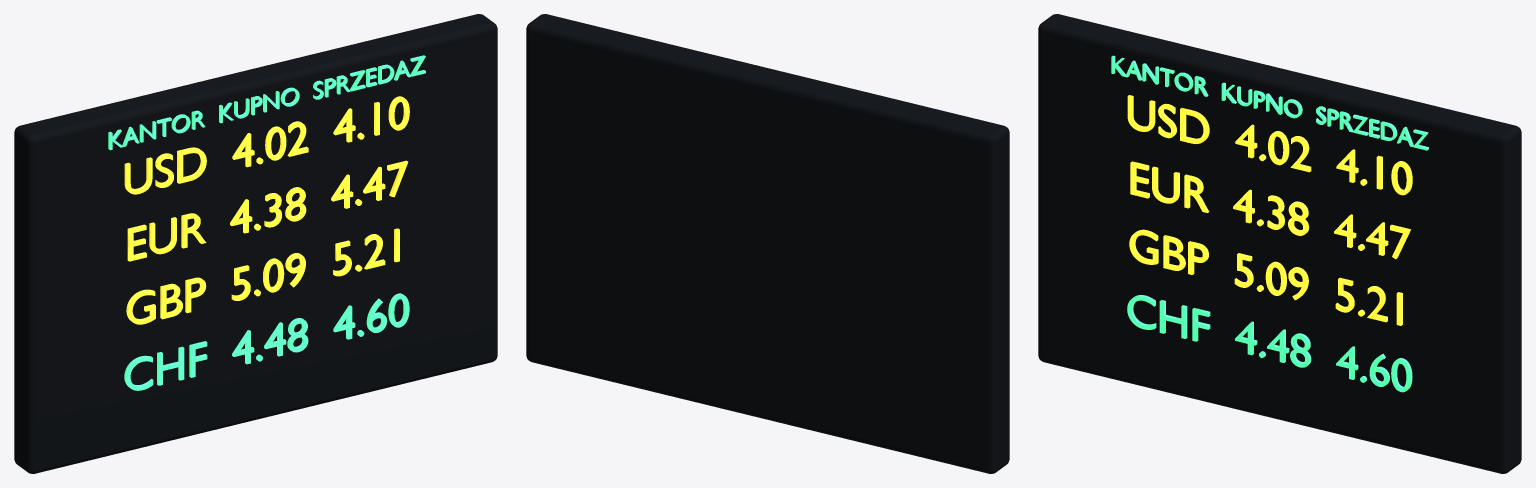
The model's file is sklep_kursy.glb.
3 views of the same model, side by side, from view 1: azimuth 30°, elevation 25°; view 2: azimuth 150°, elevation 25°; view 3: azimuth 330°, elevation 25° (orthographic).
Parts seen in each view (by area): view 1: Tablica, Swiatlo; view 2: Tablica; view 3: Tablica, Swiatlo.
Part boxes in pixels (x1=…): Tablica: x1=14, y1=14, x2=497, y2=473; Swiatlo: x1=108, y1=55, x2=425, y2=390; Tablica: x1=526, y1=14, x2=1009, y2=473; Tablica: x1=1038, y1=14, x2=1521, y2=473; Swiatlo: x1=1111, y1=55, x2=1428, y2=392.
Size of the model in its own units: 0.9 by 0.62 by 0.068.
